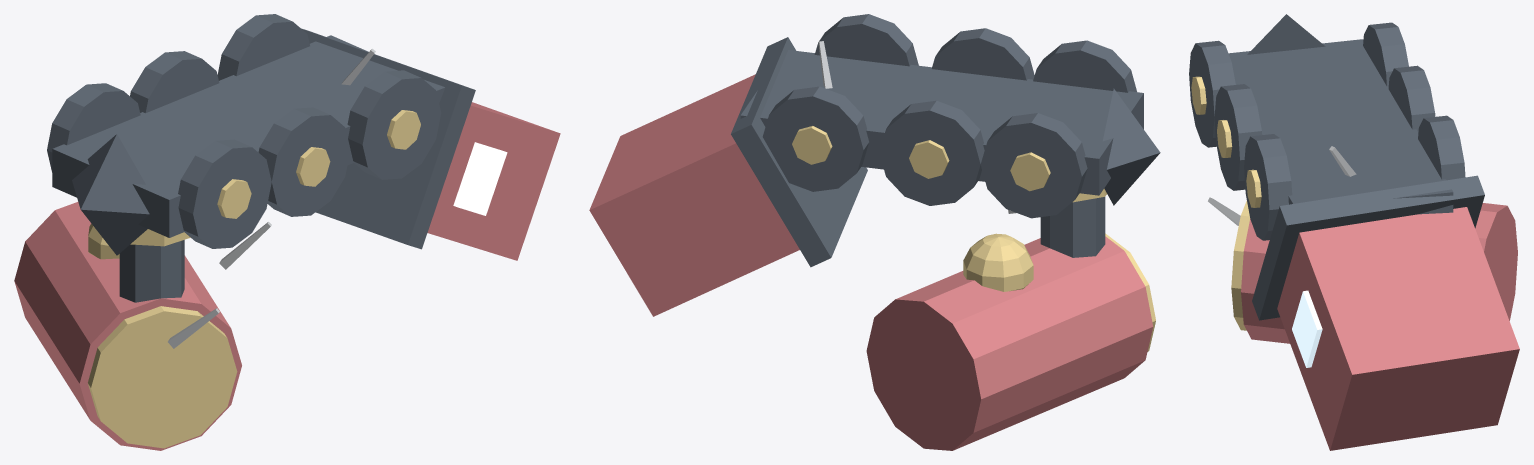
File: toy_train_botched.glb
3 renders of one model, left to right at view 1: azimuth 30°, elevation 25°; view 2: azimuth 150°, elevation 25°; view 3: azimuth 270°, elevation 25°, orthographic. The views are drawn at different scales.
Parts seen in each view (by area): view 1: Chassis, Boiler, Hub.-0.15.-1, Cab window, Bent nail.0; view 2: Boiler, Chassis, Hub.-0.15.-1; view 3: Boiler, Chassis, Hub.-0.15.-1, Cab window, Bent nail.0.
Part boxes in pixels (<box>): Chassis: <box>47,14,475,302</box>; Boiler: <box>14,102,560,450</box>; Hub.-0.15.-1: <box>88,110,420,448</box>; Cab window: <box>453,142,507,215</box>; Bent nail.0: <box>168,48,375,348</box>; Boiler: <box>589,74,1153,450</box>; Chassis: <box>731,14,1160,267</box>; Hub.-0.15.-1: <box>792,126,1155,351</box>; Boiler: <box>1241,203,1519,450</box>; Chassis: <box>1189,14,1484,320</box>; Hub.-0.15.-1: <box>1191,76,1261,330</box>; Cab window: <box>1292,290,1322,367</box>; Bent nail.0: <box>1208,146,1356,225</box>.
Bounding box in the file's own units: 0.7138 × 0.4136 × 0.4079.
